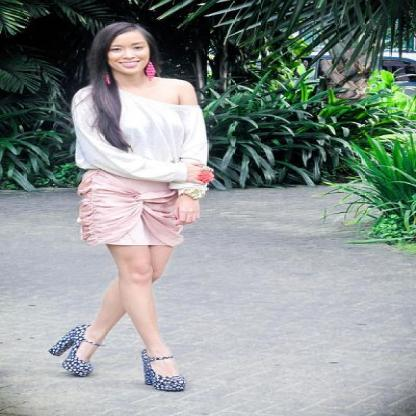shirt: (72, 86, 211, 198)
shoe: (49, 329, 184, 391)
skirt: (69, 171, 205, 248)
